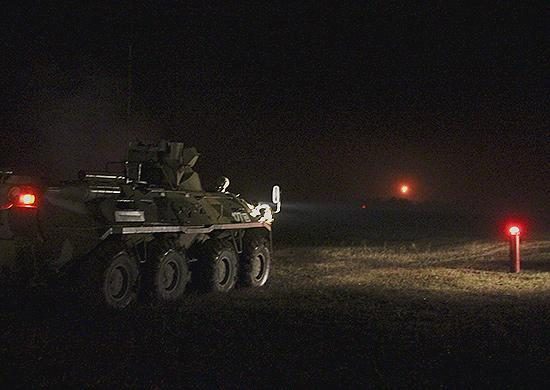tank: (1, 138, 282, 324)
